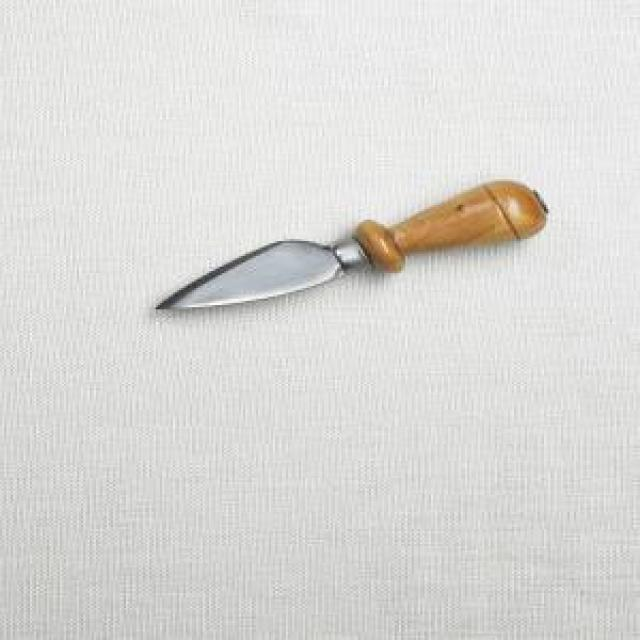knife: (147, 175, 555, 315)
